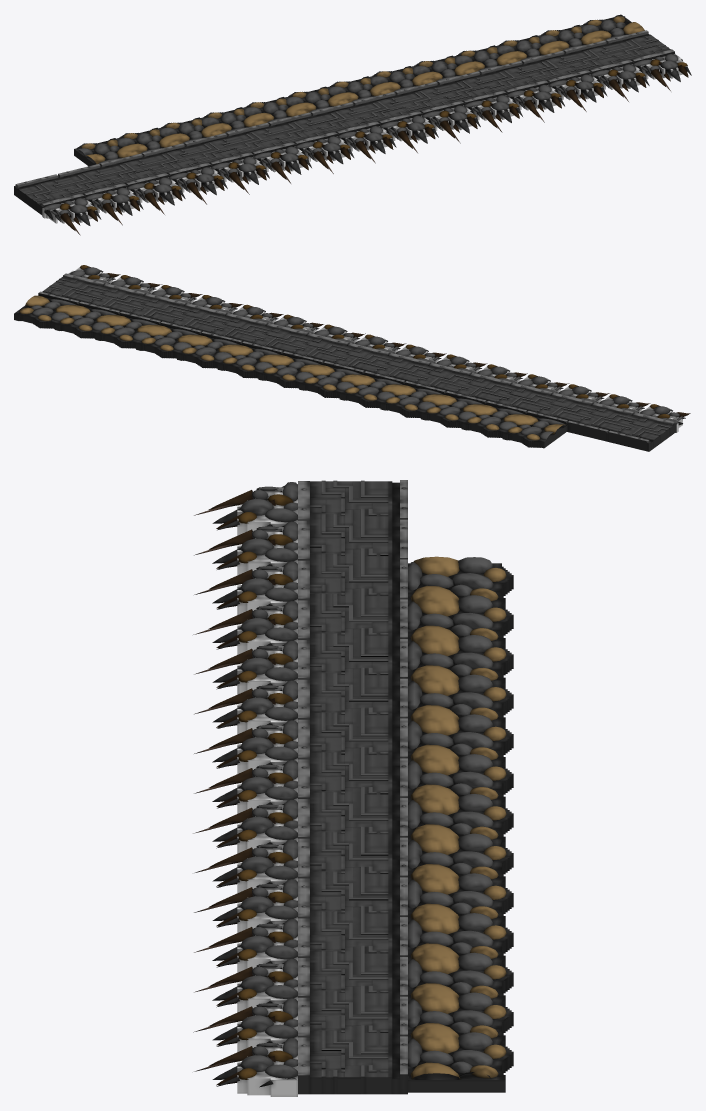
The model's file is tyrbld-bridge.glb.
3 views of the same model, one above another, from view 1: azimuth 30°, elevation 25°; view 2: azimuth 150°, elevation 25°; view 3: azimuth 270°, elevation 25° (orthographic). The views are drawn at different scales.
Visible parts, largest first — view 1: shapesz-tyrbld-bridge-parts, shapesz-tyrbld-bridge-deck; view 2: shapesz-tyrbld-bridge-parts, shapesz-tyrbld-bridge-deck; view 3: shapesz-tyrbld-bridge-parts, shapesz-tyrbld-bridge-deck.
Part boxes in pixels (bbox=[...]): shapesz-tyrbld-bridge-parts: bbox=[24, 14, 691, 235]; shapesz-tyrbld-bridge-deck: bbox=[14, 30, 674, 215]; shapesz-tyrbld-bridge-parts: bbox=[14, 265, 690, 448]; shapesz-tyrbld-bridge-deck: bbox=[38, 273, 676, 451]; shapesz-tyrbld-bridge-parts: bbox=[193, 482, 513, 1096]; shapesz-tyrbld-bridge-deck: bbox=[298, 480, 407, 1094].
Bounding box in the file's own units: 30.05 × 0.6584 × 6.83.
Materials: 14 (14 with a texture image).
